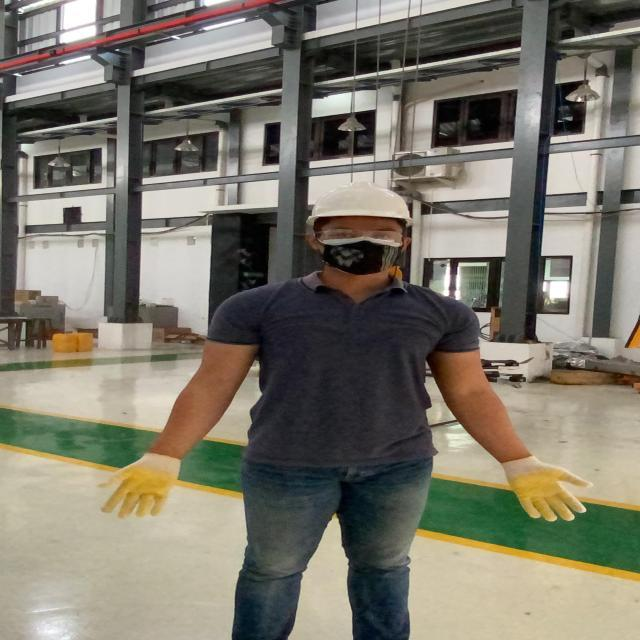glasses: (308, 226, 408, 247)
